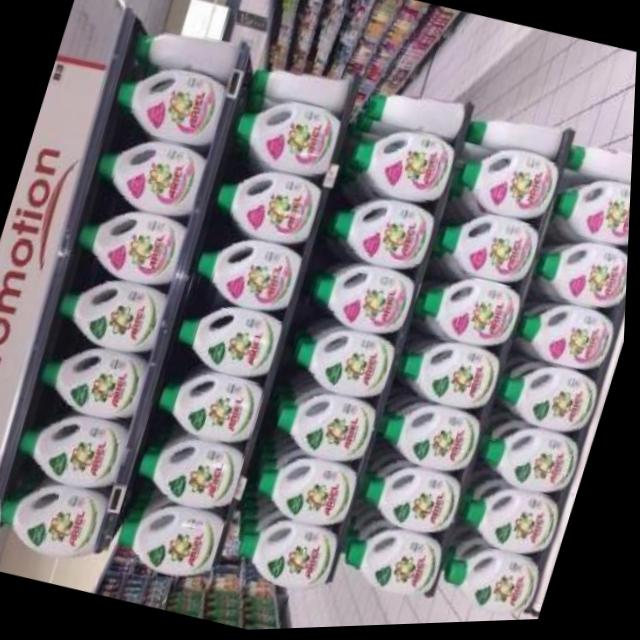Detergent: (61, 188, 193, 290), (220, 84, 347, 189), (334, 116, 463, 218), (12, 396, 136, 500), (86, 126, 210, 230), (103, 57, 232, 154), (201, 157, 327, 254), (168, 289, 291, 388), (113, 491, 233, 592), (369, 388, 491, 487), (33, 330, 155, 428), (137, 416, 254, 518), (306, 249, 424, 349), (448, 134, 567, 233), (386, 330, 510, 425), (407, 264, 529, 360), (429, 199, 549, 296), (285, 313, 406, 409), (0, 467, 116, 566), (490, 352, 609, 448), (325, 187, 443, 283), (267, 377, 386, 472), (236, 505, 349, 605), (186, 226, 309, 317), (157, 354, 271, 449), (437, 536, 556, 627), (248, 445, 366, 535), (512, 293, 626, 386), (461, 477, 572, 572), (479, 415, 593, 505), (526, 229, 631, 324), (344, 516, 453, 605), (362, 456, 470, 545), (544, 167, 634, 263)
